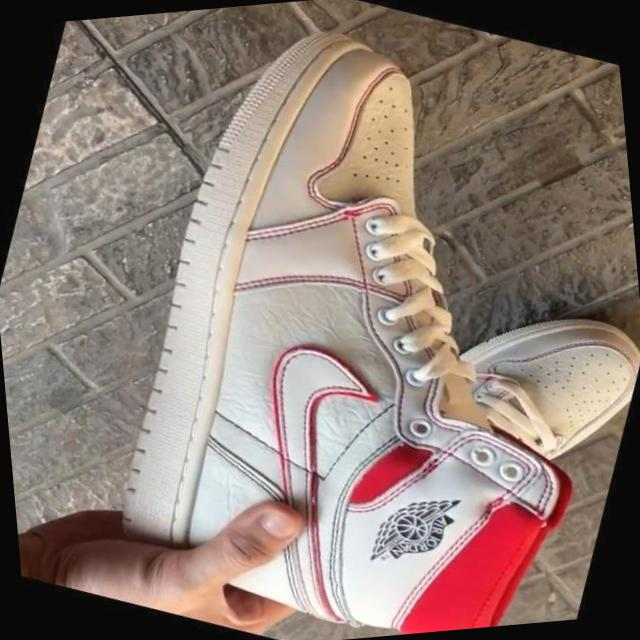nike_fake_jordan: (50, 0, 640, 640), (181, 209, 640, 640)
